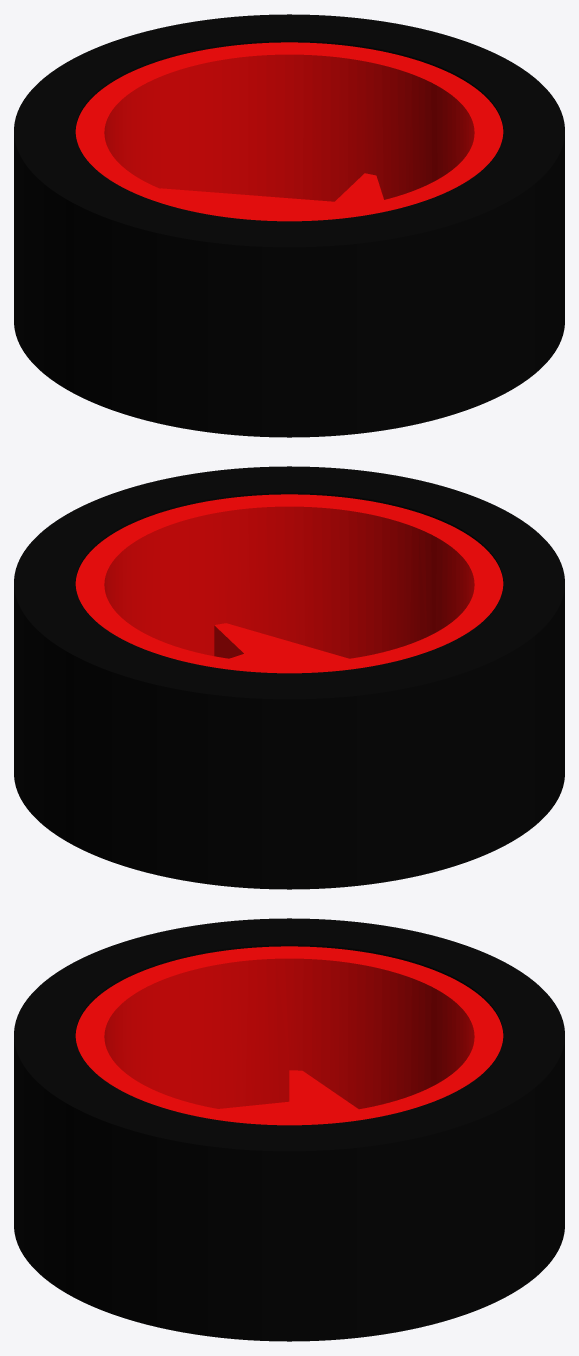
File: WheelFrontRight.dae
3 renders of one model, top to bottom at view 1: azimuth 30°, elevation 25°; view 2: azimuth 150°, elevation 25°; view 3: azimuth 270°, elevation 25°, orthographic.
Parts seen in each view (by area): view 1: node0, node1; view 2: node0, node1; view 3: node0, node1.
Part boxes in pixels (left/top/right/bottom): node0: left=14, top=14, right=564, bottom=437; node1: left=75, top=42, right=503, bottom=221; node0: left=14, top=466, right=564, bottom=889; node1: left=75, top=494, right=503, bottom=673; node0: left=14, top=918, right=564, bottom=1341; node1: left=75, top=946, right=503, bottom=1125.
Bounding box in the file's own units: 0.067 × 0.067 × 0.0255.
